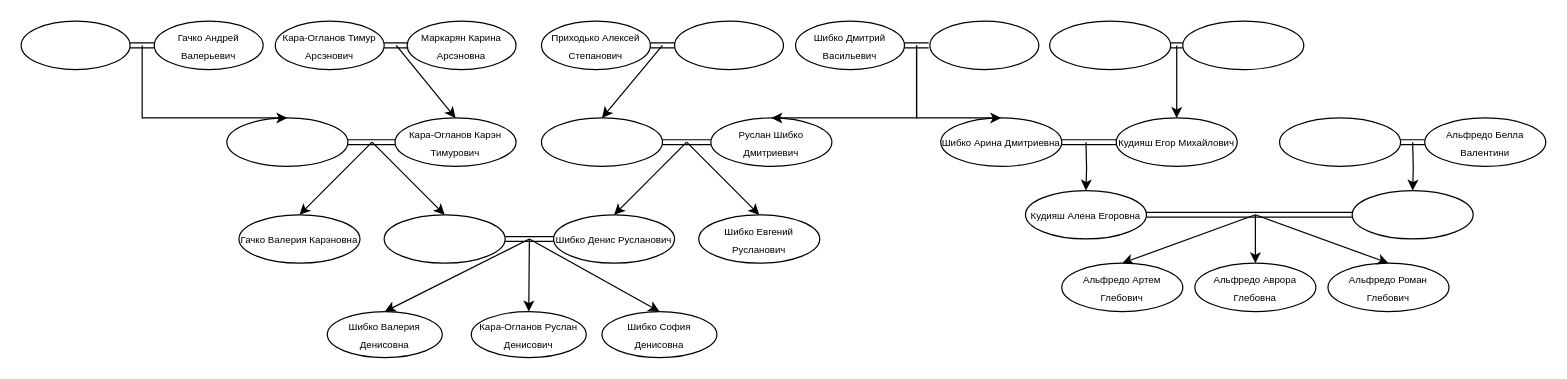
The diagram is 1567 pixels wide and 379 high, and some of its shapes have lost their labels. The shapes that lost their labels are listed below. From the top down, each one's box as (x1, y1, x2, y2) in pixels, then its label:
(20, 20, 130, 70): Гачко Зинаида Андреевна
(673, 20, 783, 70): Приходько Варвара Николаевна
(929, 20, 1039, 70): Шибко Наталья Степановна
(1048, 20, 1171, 70): Кудияш Михаил Александрович
(1182, 20, 1304, 70): Кудияш Лариса Андреевна
(226, 117, 348, 166): Гачко Алла Андреевна
(540, 117, 662, 166): Шибко Ирина Алексеевна
(1278, 117, 1401, 166): Альфредо Джованни Моретти
(1351, 189, 1473, 239): Альфредо Глеб Джованелли
(383, 214, 505, 263): Кара-Огланова Юлия Карэновна
